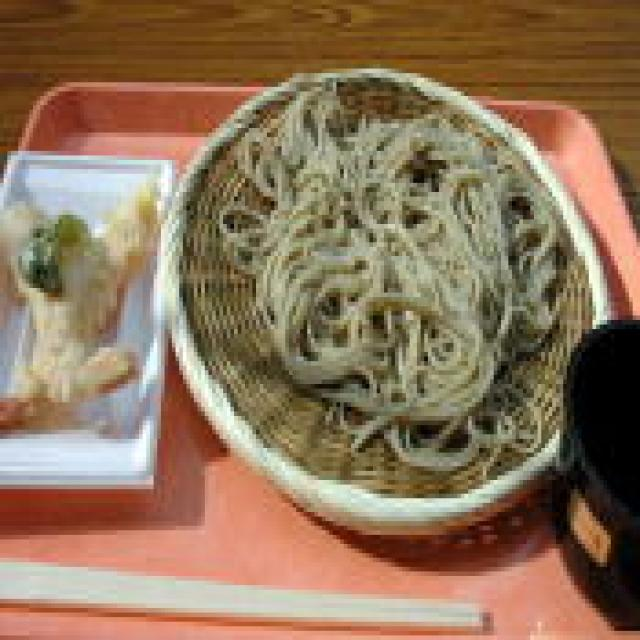面条主食: (146, 32, 618, 558)
